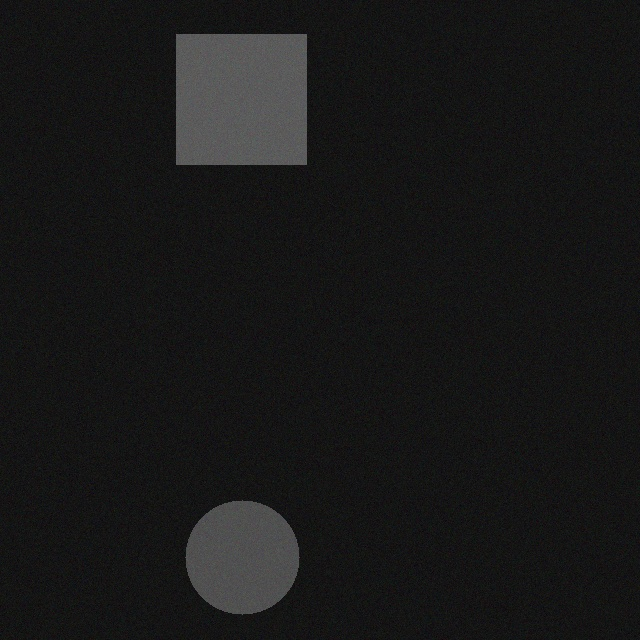circle: (187, 500, 301, 614)
square: (178, 34, 308, 164)
